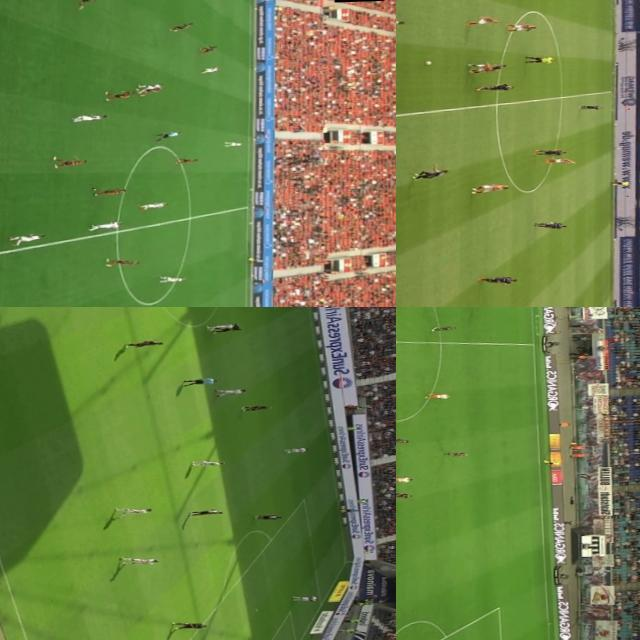ball: (422, 57, 436, 65)
player: (51, 154, 88, 168), (478, 272, 517, 285), (168, 618, 210, 630), (118, 552, 158, 564), (104, 254, 142, 266), (91, 184, 127, 196), (408, 169, 450, 179), (114, 506, 154, 516), (471, 182, 509, 192), (68, 112, 110, 121), (10, 232, 44, 243), (123, 338, 163, 347), (102, 89, 136, 99), (468, 15, 502, 25), (476, 62, 509, 72), (192, 506, 225, 516), (240, 402, 272, 412), (216, 386, 248, 396), (535, 146, 569, 155), (475, 82, 513, 90), (85, 220, 122, 228), (202, 322, 241, 329), (536, 220, 566, 229), (253, 512, 283, 521), (468, 62, 494, 72), (156, 274, 188, 282), (71, 0, 107, 7), (138, 85, 166, 94), (208, 324, 244, 331), (140, 200, 170, 208), (292, 593, 321, 601), (428, 390, 450, 400), (547, 158, 577, 165), (507, 23, 537, 30), (579, 102, 604, 110), (136, 82, 164, 89), (170, 22, 194, 30), (281, 446, 307, 453), (186, 460, 228, 464), (446, 449, 468, 456), (176, 156, 200, 162), (200, 45, 220, 52), (222, 140, 245, 146), (396, 490, 413, 498), (427, 326, 458, 330), (201, 66, 221, 72), (396, 435, 409, 444), (396, 474, 410, 482)
